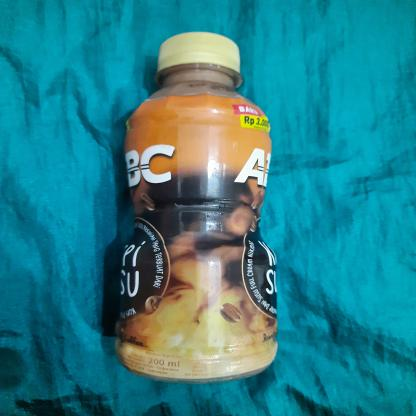plastic: (110, 28, 280, 384)
